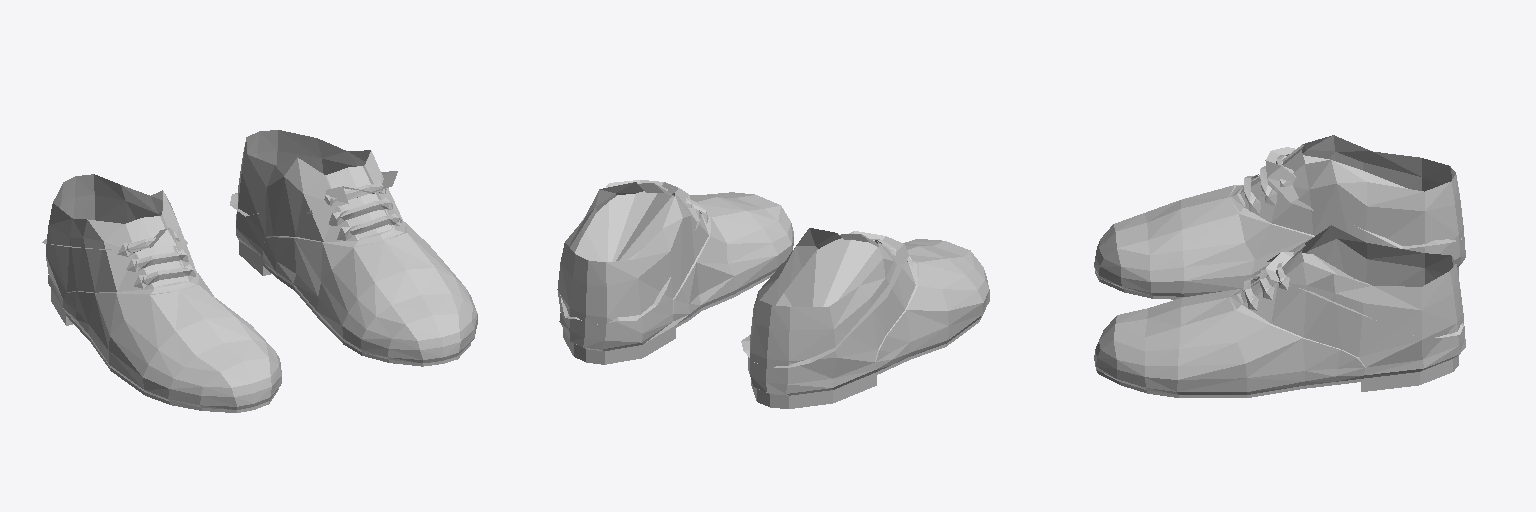
File: ShoesShape.obj
The picture shows the model from 3 angles: view 1: azimuth 30°, elevation 25°; view 2: azimuth 150°, elevation 25°; view 3: azimuth 270°, elevation 25°; orthographic projection.
Visible parts, largest first — view 1: Shoes Brad_Skin CharacterRoot; view 2: Shoes Brad_Skin CharacterRoot; view 3: Shoes Brad_Skin CharacterRoot.
Boxes of the visible parts, x1,y1,x2,y2 form: Shoes Brad_Skin CharacterRoot: [42, 130, 477, 412]; Shoes Brad_Skin CharacterRoot: [557, 180, 989, 408]; Shoes Brad_Skin CharacterRoot: [1094, 135, 1465, 397].
Size of the model in its own units: 36.45 by 13.46 by 35.73.